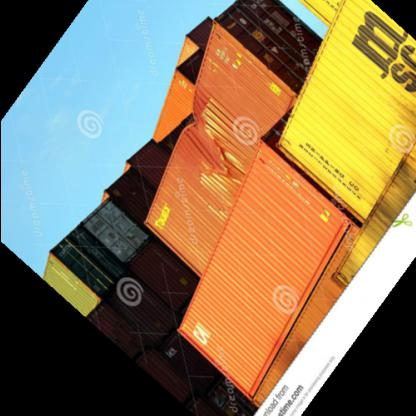Damage: (172, 112, 232, 188)
